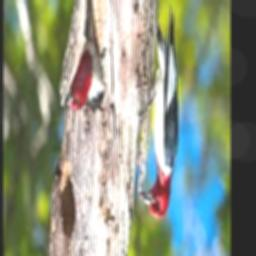Woodpecker: (139, 5, 179, 217), (65, 0, 105, 115)
